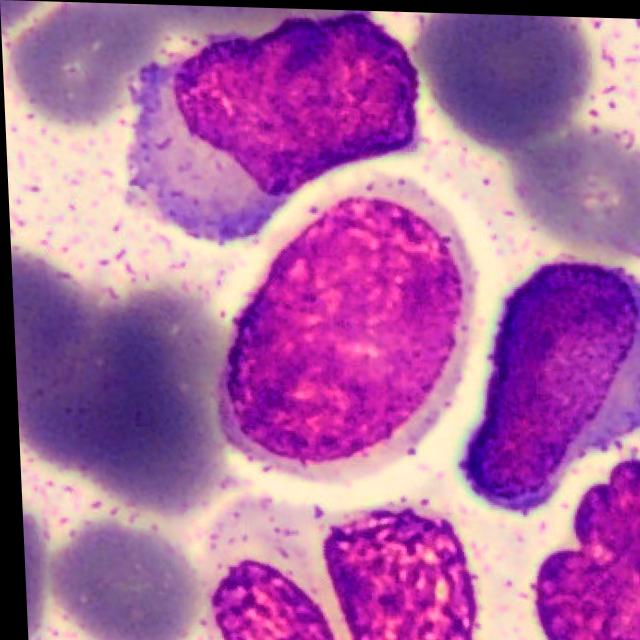Mieloblasto: (213, 185, 485, 482), (132, 8, 420, 242)
